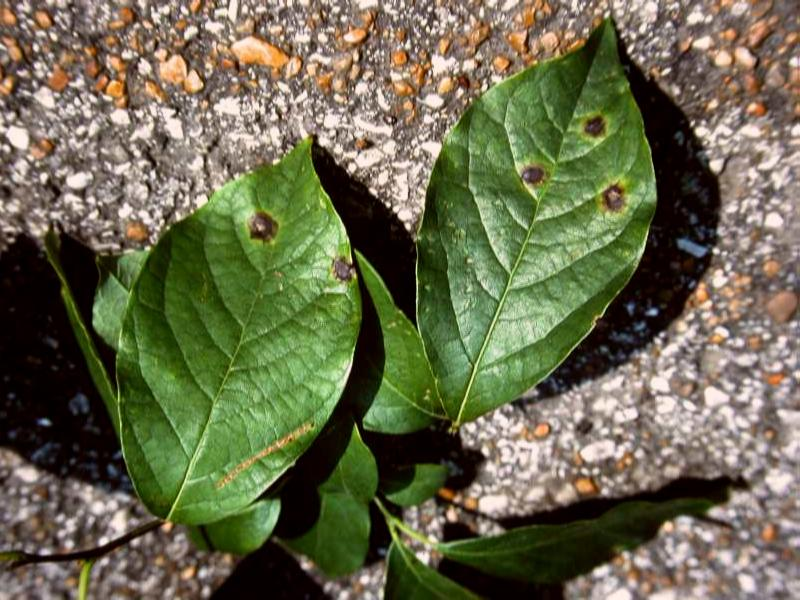Tomato leaf bacterial spot: (408, 4, 690, 429), (112, 126, 381, 527)
